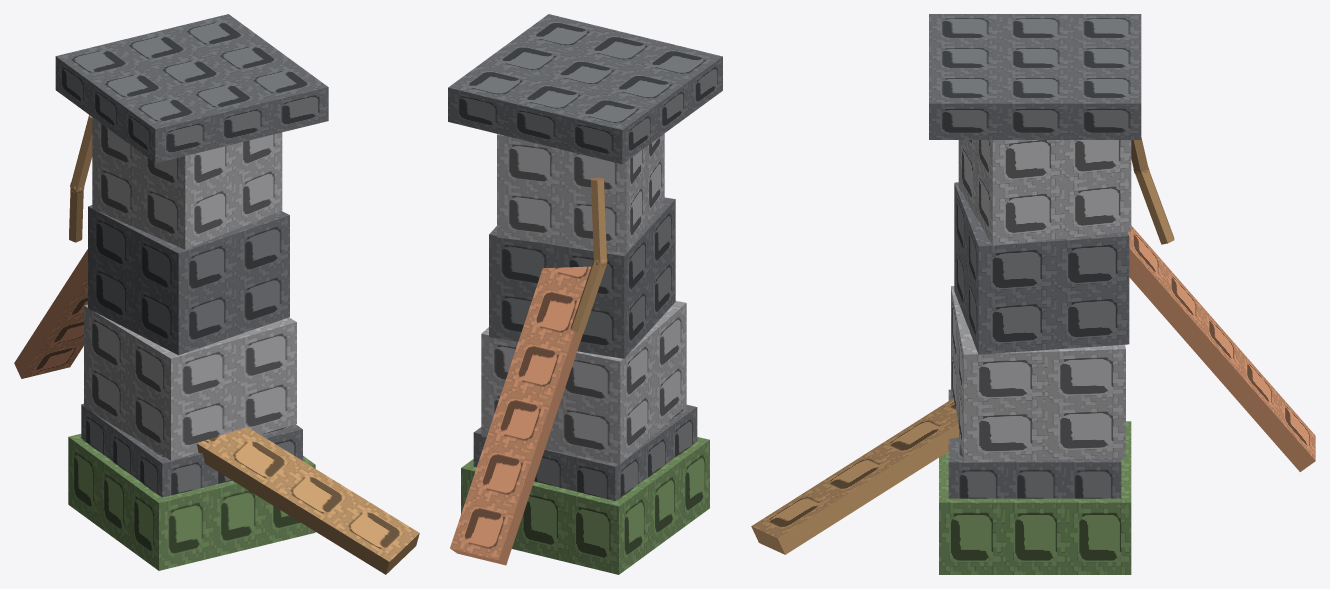
Rendered from SunkenBridgePost.glb.
3 views of the same model, side by side, from view 1: azimuth 30°, elevation 25°; view 2: azimuth 150°, elevation 25°; view 3: azimuth 270°, elevation 25° (orthographic). The views are drawn at different scales.
Parts seen in each view (by area): view 1: SunkenBridgePost; view 2: SunkenBridgePost; view 3: SunkenBridgePost.
Part boxes in pixels (bbox=[...]): SunkenBridgePost: bbox=[14, 14, 419, 574]; SunkenBridgePost: bbox=[448, 14, 722, 574]; SunkenBridgePost: bbox=[751, 14, 1315, 574].
Bounding box in the file's own units: 3.57 × 7.9 × 8.5.
Materials: 1 (1 with a texture image).
